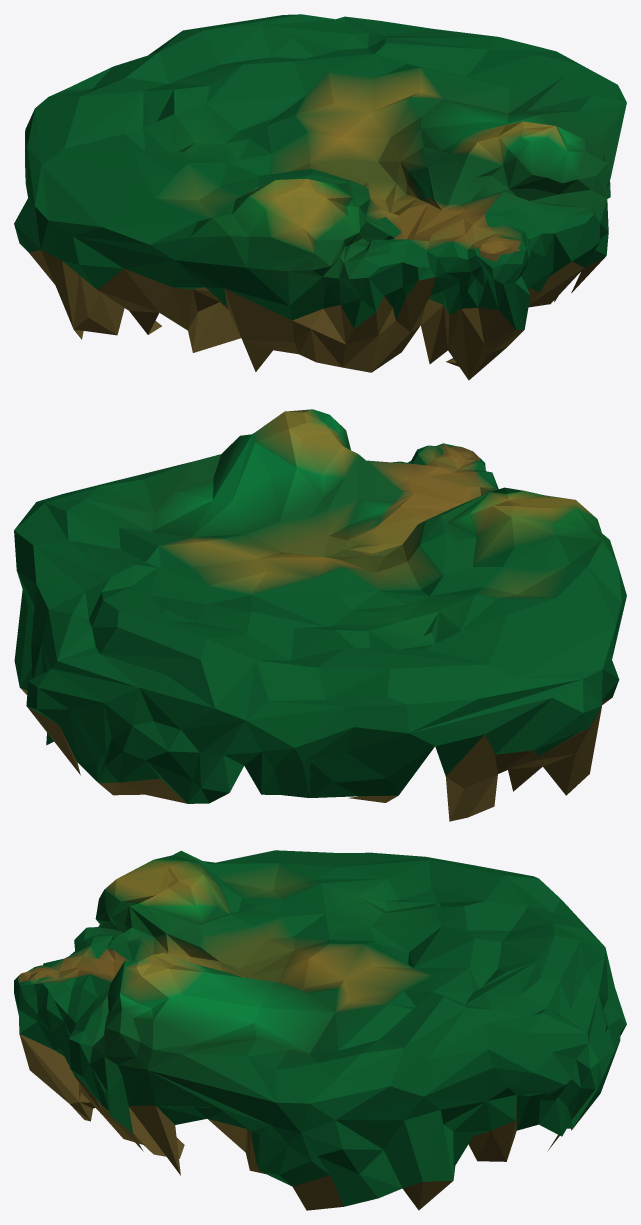
The model's file is ENV_Floating_Island_05.fbx.
3 renders of one model, top to bottom at view 1: azimuth 30°, elevation 25°; view 2: azimuth 150°, elevation 25°; view 3: azimuth 270°, elevation 25°, orthographic. The views are drawn at different scales.
Visible parts, largest first — view 1: ENV_Floating_Island_05; view 2: ENV_Floating_Island_05; view 3: ENV_Floating_Island_05.
Part boxes in pixels (x1,y1,x2,y2): ENV_Floating_Island_05: (14, 14, 626, 380); ENV_Floating_Island_05: (14, 409, 626, 821); ENV_Floating_Island_05: (14, 850, 626, 1210).
Bounding box in the file's own units: 3322 × 1218 × 3233.
